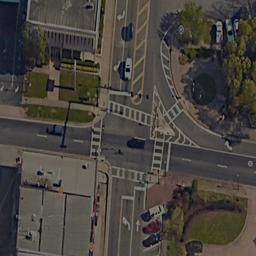Car: (144, 200, 163, 249), (214, 18, 241, 40), (122, 55, 134, 81), (44, 123, 66, 134), (125, 21, 138, 39), (125, 136, 147, 146)
Chevron: (151, 84, 201, 151), (132, 1, 150, 102)
Crosswalk: (106, 99, 151, 129), (109, 163, 148, 186), (162, 95, 191, 125), (91, 117, 102, 161), (152, 139, 163, 172)
Double Solid Yellow Line: (117, 198, 122, 256)
Left Turn Arrow: (121, 214, 131, 233)
Right Turn Arrow: (111, 57, 123, 73), (222, 140, 234, 151), (116, 9, 126, 19)
Solid White Line: (131, 202, 133, 256)
Stop Line: (164, 141, 172, 172), (109, 89, 132, 97), (132, 184, 147, 191), (121, 195, 134, 201)
Stright Arrow: (134, 217, 141, 233)
White Dashed Line: (178, 155, 254, 178), (27, 134, 87, 144)
